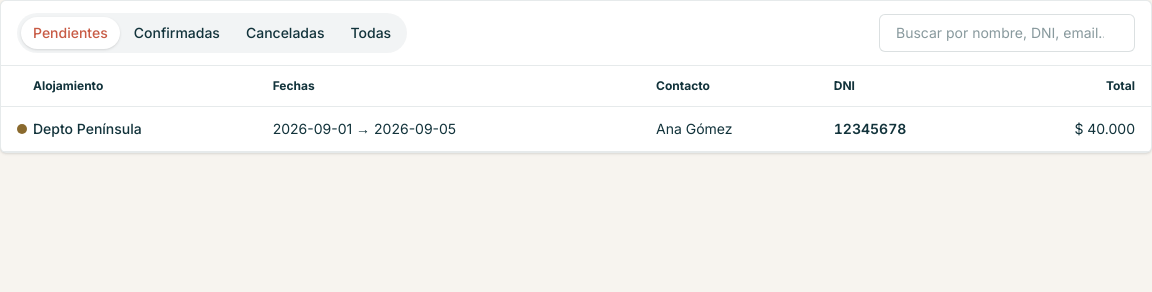
Test: ReservasTable — fila expandible › clickear una fila la expande y muestra el detalle de contacto
Click the text "Depto Península".
click(87, 128)  # box [33, 106, 273, 152]
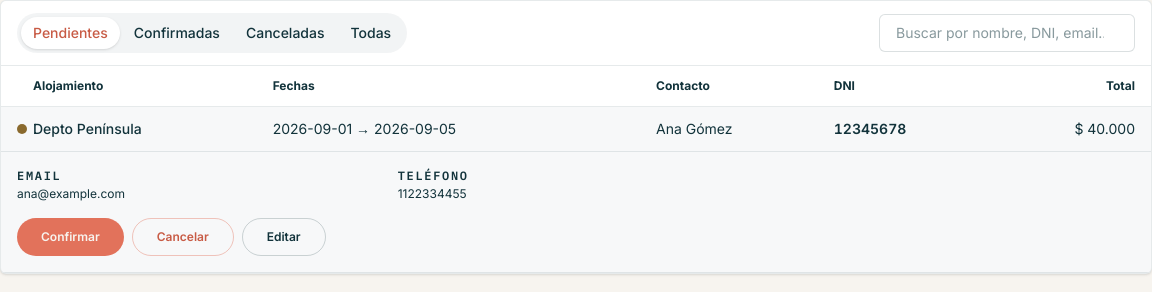
Expected: the text "ana@example.com" is shown, [17, 186, 125, 201]
Expected: the text "1122334455" is shown, [398, 186, 467, 201]
